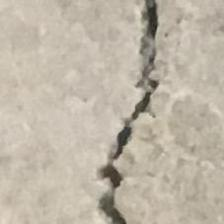Crack: (84, 0, 199, 224)
